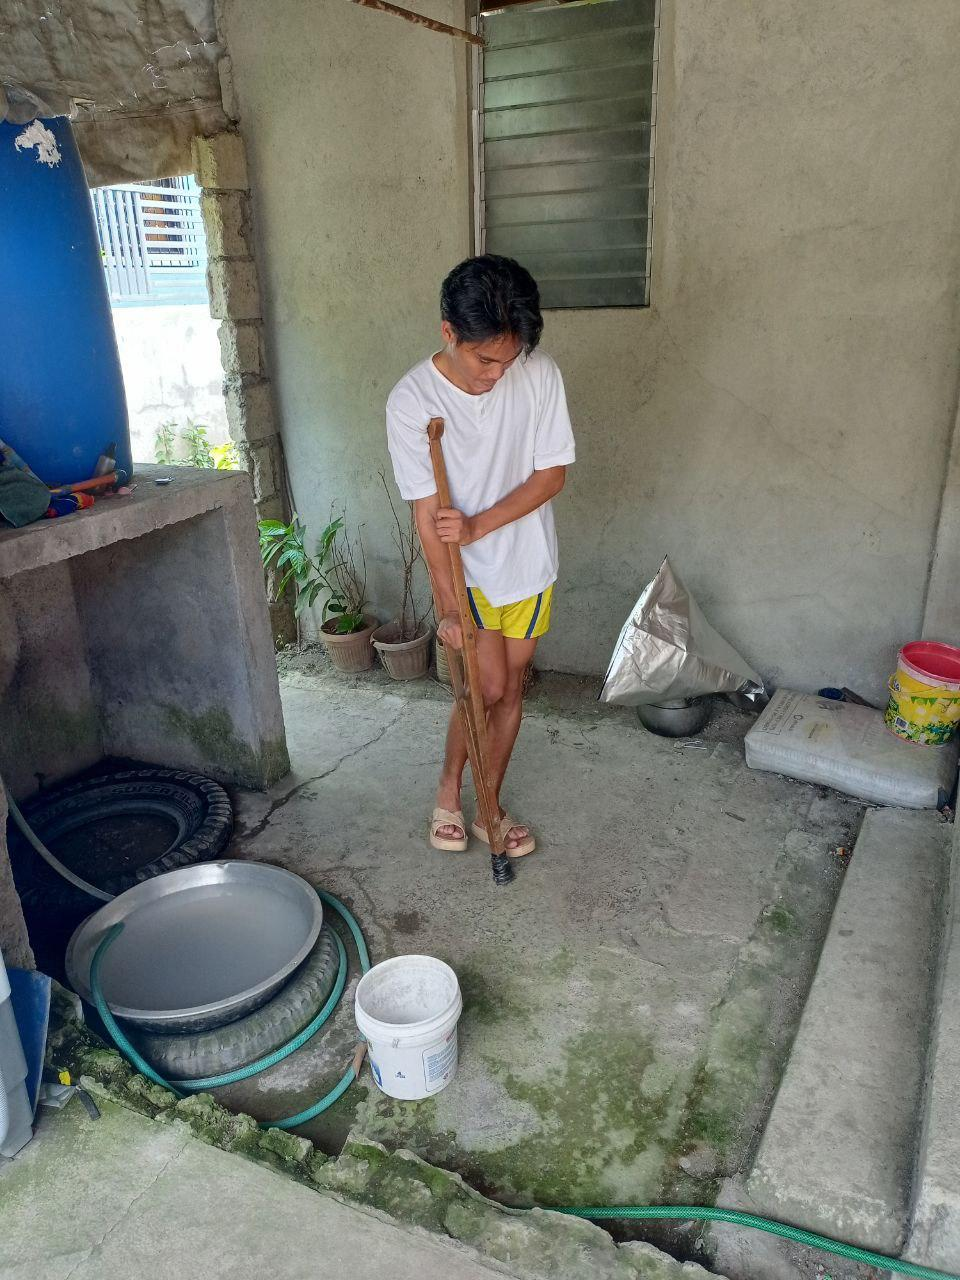crutches: (383, 248, 581, 896)
